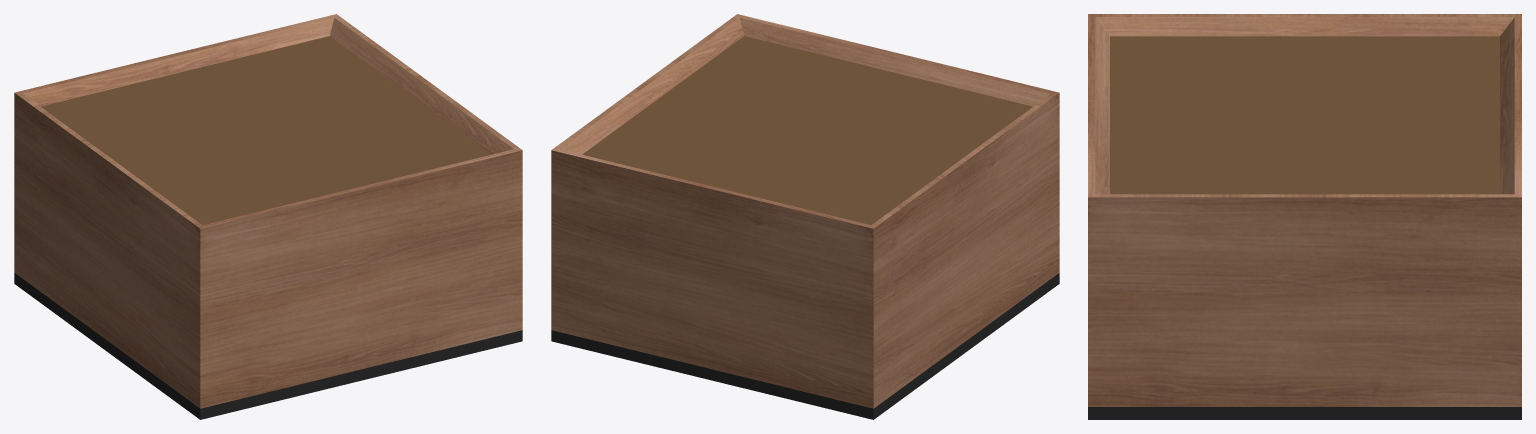
The model's file is pot.glb.
The picture shows the model from 3 angles, left to right: view 1: azimuth 30°, elevation 25°; view 2: azimuth 150°, elevation 25°; view 3: azimuth 270°, elevation 25°; orthographic projection. The views are drawn at different scales.
Parts seen in each view (by area): view 1: Object_1136, MUD_NODE, Object_1146; view 2: Object_1136, MUD_NODE, Object_1146; view 3: Object_1136, MUD_NODE, Object_1146.
Boxes of the visible parts, <box> form: Object_1136: <box>14,14,522,408</box>; MUD_NODE: <box>41,36,491,224</box>; Object_1146: <box>14,273,522,419</box>; Object_1136: <box>551,14,1059,408</box>; MUD_NODE: <box>582,36,1032,224</box>; Object_1146: <box>551,273,1059,419</box>; Object_1136: <box>1088,14,1521,406</box>; MUD_NODE: <box>1110,36,1499,194</box>; Object_1146: <box>1088,407,1521,419</box>.
Size of the model in its own units: 0.3 by 0.17 by 0.3.
Materials: 4 (2 with a texture image).
